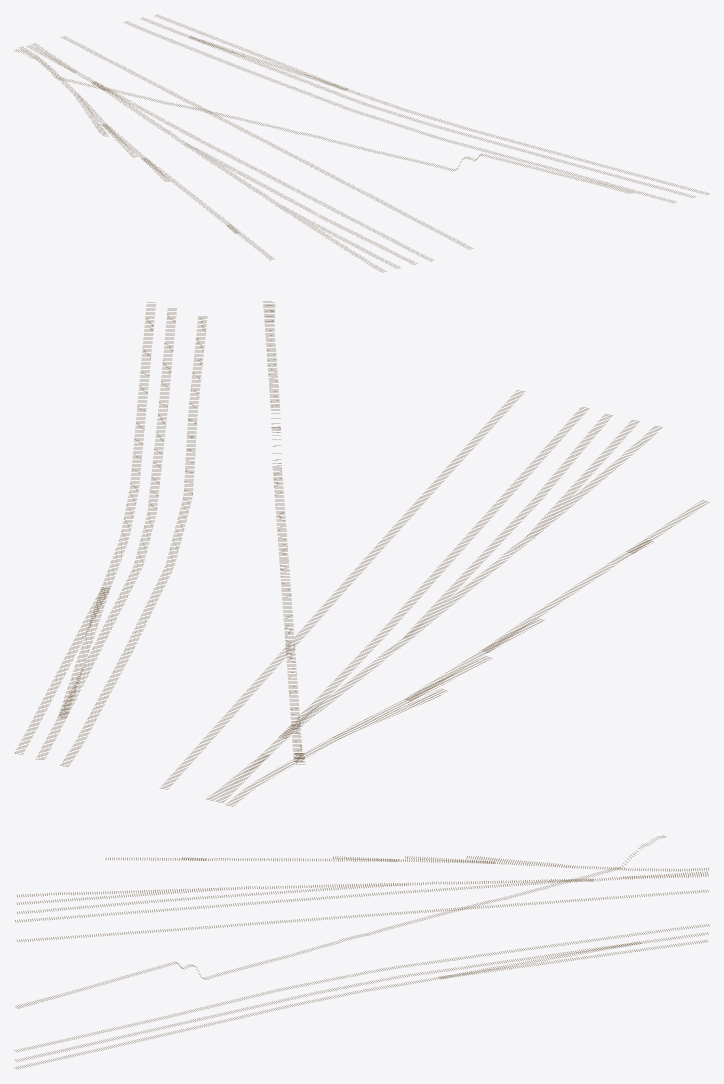
Rendered from c_1631_17824_rail_sleeper.glb.
The picture shows the model from 3 angles, top to bottom: view 1: azimuth 30°, elevation 25°; view 2: azimuth 150°, elevation 25°; view 3: azimuth 270°, elevation 25°; orthographic projection. The views are drawn at different scales.
Visible parts, largest first — view 1: geometry_0; view 2: geometry_0; view 3: geometry_0.
Part boxes in pixels (x1=…): geometry_0: x1=14, y1=14, x2=709, y2=272; geometry_0: x1=14, y1=301, x2=709, y2=806; geometry_0: x1=14, y1=835, x2=709, y2=1069.
Bounding box in the file's own units: 185 × 10.22 × 257.
